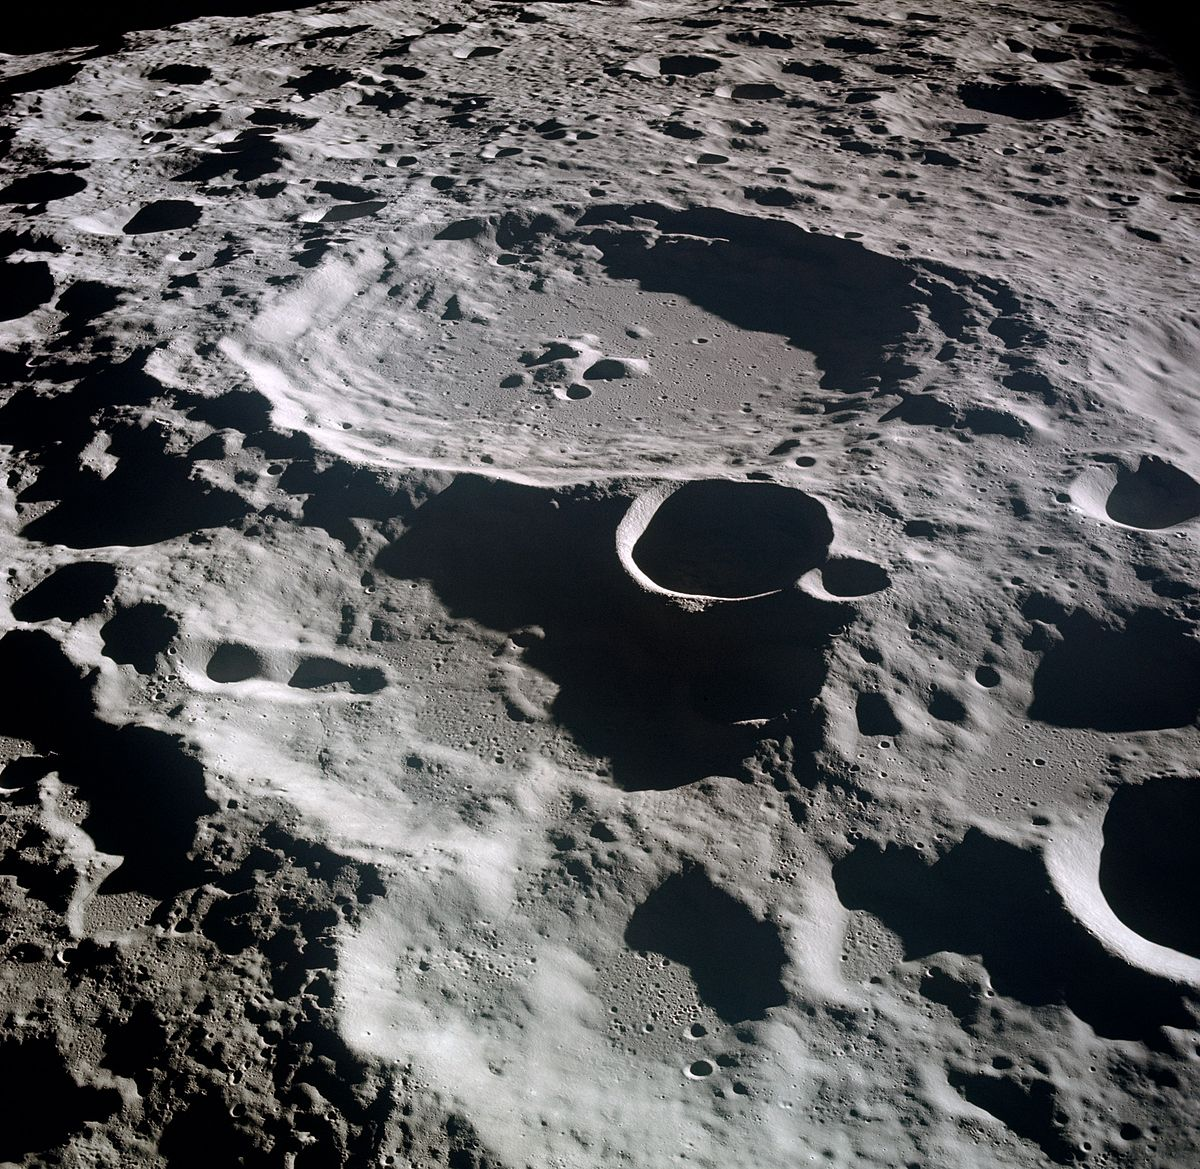crater: (207, 177, 1037, 488), (860, 71, 1091, 166), (1047, 428, 1200, 548), (66, 192, 240, 255), (592, 34, 726, 84)
